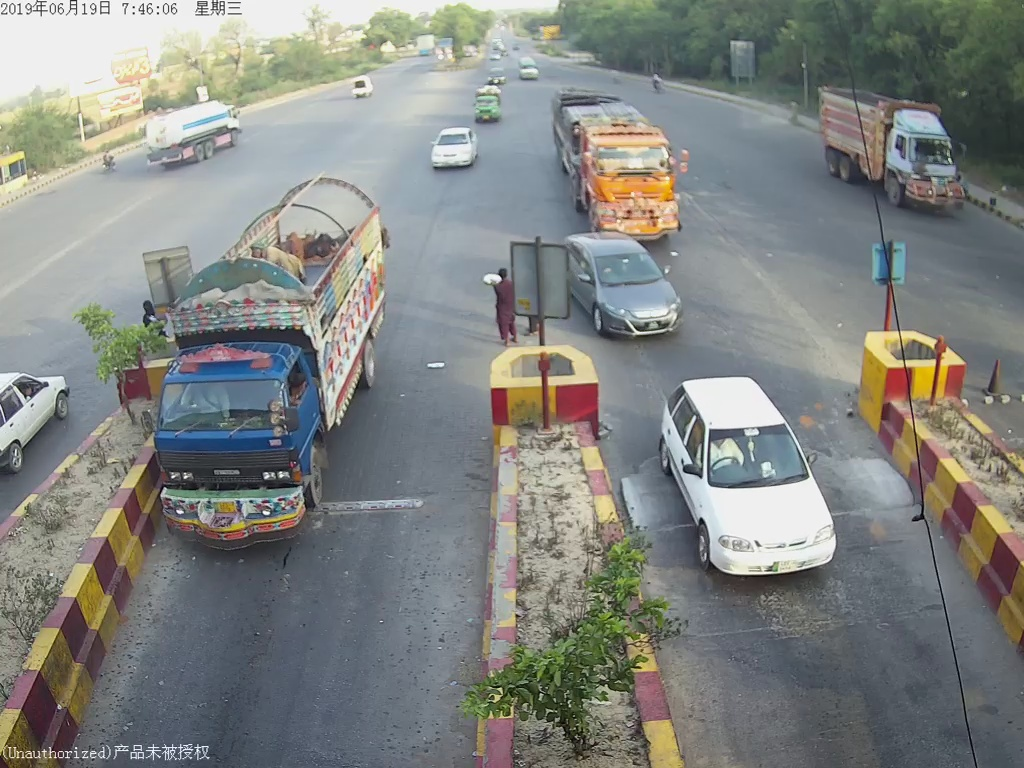Cat-1: (658, 376, 856, 603), (423, 119, 482, 175)
Cat-4: (143, 161, 397, 553)
Cat-5: (555, 92, 687, 237)
